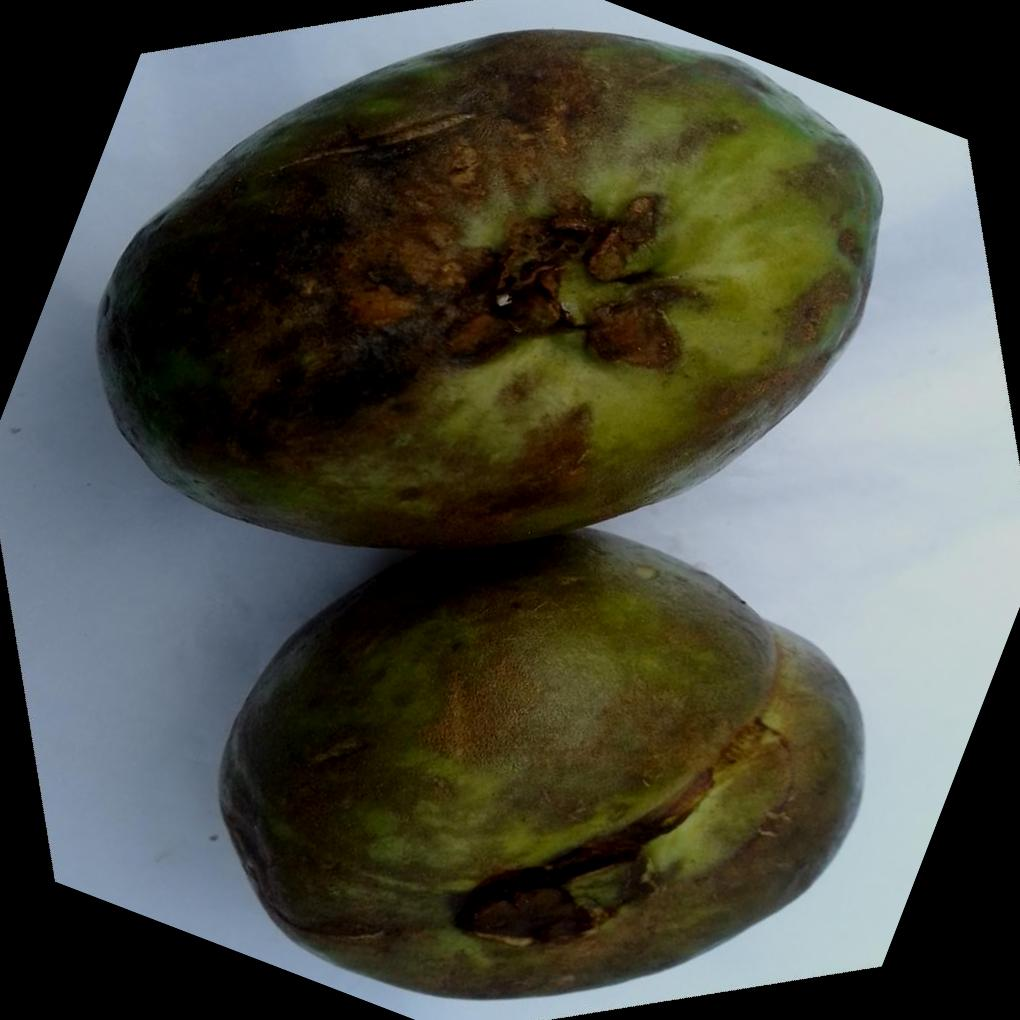FreshOrange: (90, 24, 882, 999)
